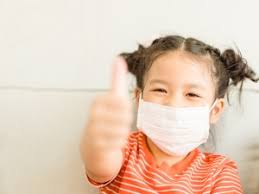with_mask: (135, 49, 222, 155)
